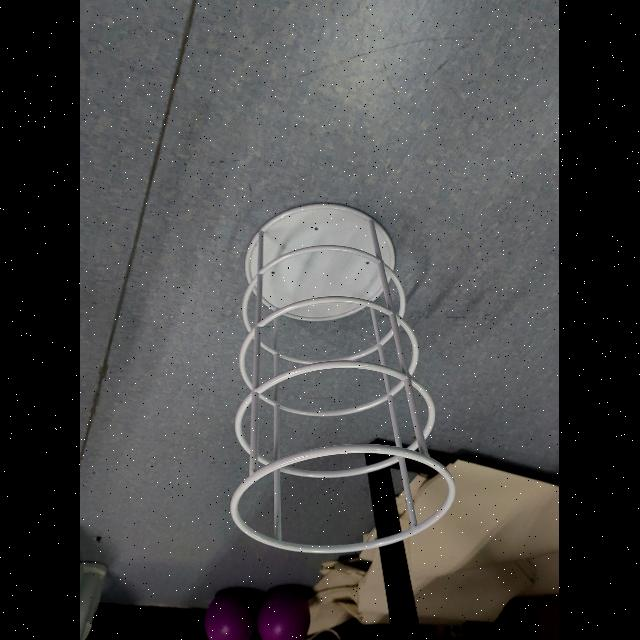S: (224, 200, 460, 558)
